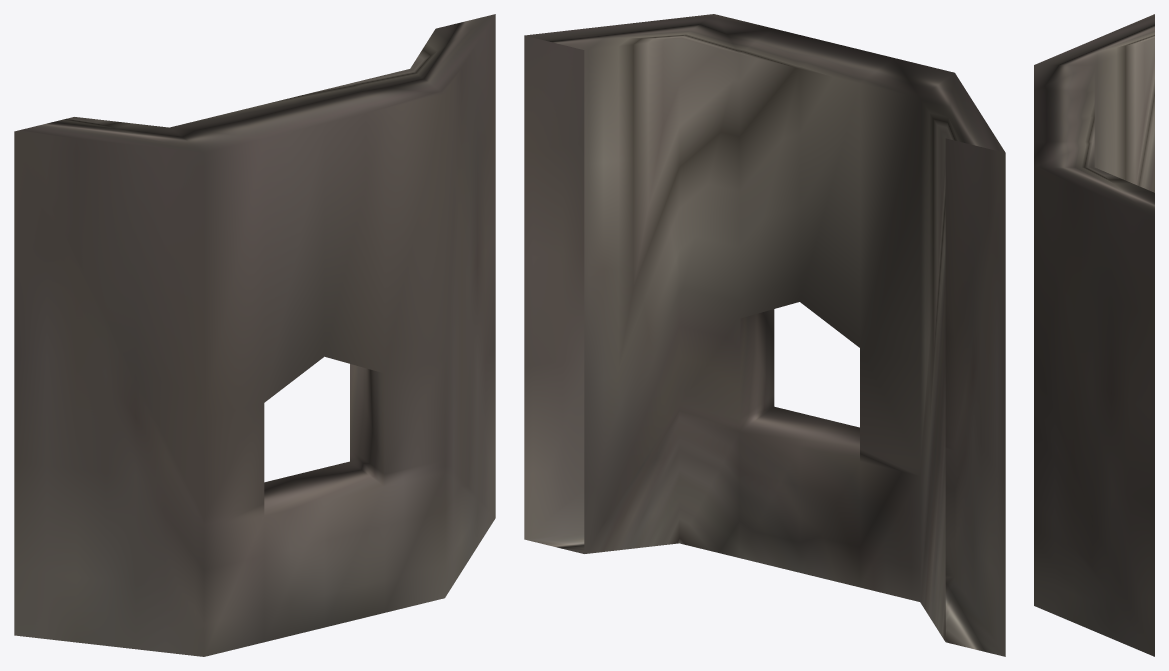
File: towerblock_window_wall_sm.glb
The picture shows the model from 3 angles, left to right: view 1: azimuth 30°, elevation 25°; view 2: azimuth 150°, elevation 25°; view 3: azimuth 270°, elevation 25°; orthographic projection. The views are drawn at different scales.
Parts seen in each view (by area): view 1: towerblock_window_wall_sm; view 2: towerblock_window_wall_sm; view 3: towerblock_window_wall_sm.
Boxes of the visible parts, x1,y1,x2,y2 form: towerblock_window_wall_sm: (14, 14, 495, 656); towerblock_window_wall_sm: (524, 14, 1005, 656); towerblock_window_wall_sm: (1034, 14, 1154, 656).
Size of the model in its own units: 8 by 8 by 2.
Materials: 1 (1 with a texture image).
